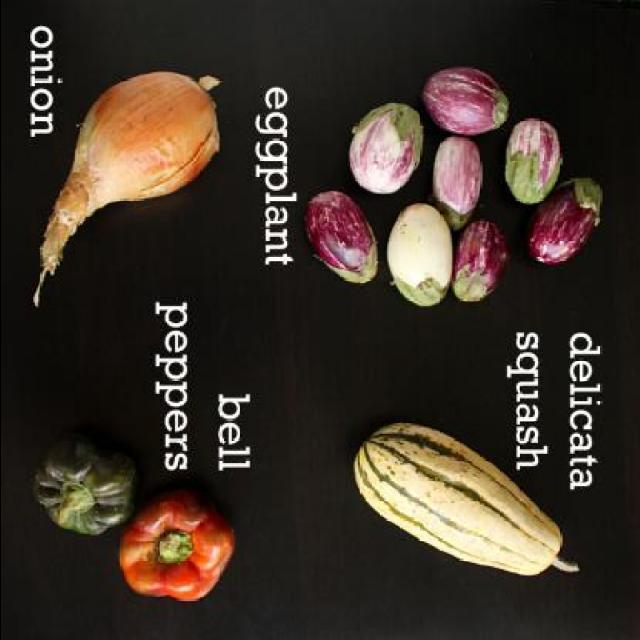Bell pepper: (117, 493, 231, 604), (31, 430, 134, 536)
